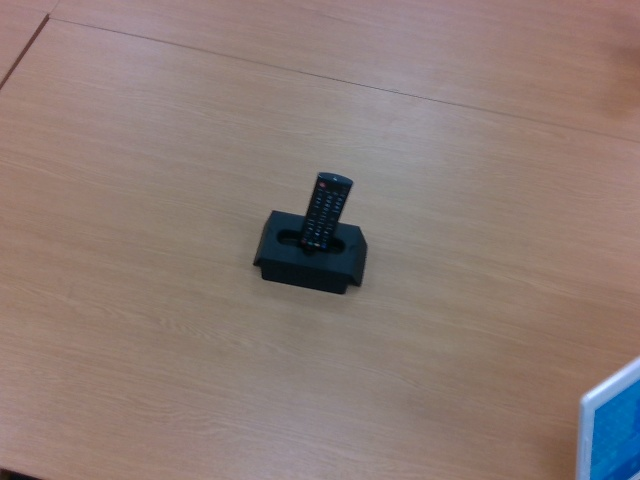remote: (298, 172, 354, 251)
